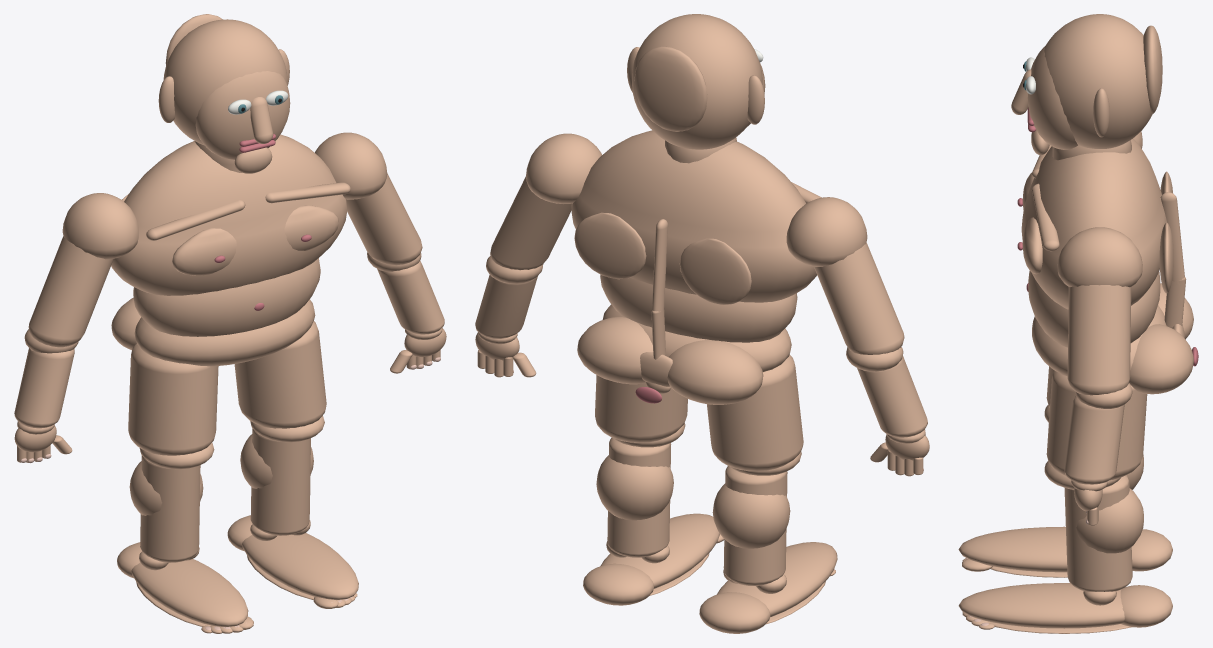
Rendered from body-baby-weiblich-v2.glb.
The picture shows the model from 3 angles, left to right: view 1: azimuth 30°, elevation 25°; view 2: azimuth 150°, elevation 25°; view 3: azimuth 270°, elevation 25°; orthographic projection. The views are drawn at different scales.
Visible parts, largest first — view 1: zone__surface-chest, zone__surface-thigh-left, zone__surface-abdomen, zone__surface-scalp, zone__surface-thigh-right, zone__surface-upper-arm-left, zone__surface-pelvis, zone__surface-foot-right, zone__surface-foot-left, zone__surface-lower-leg-left, zone__surface-lower-leg-right, zone__surface-face (+20 smaller); view 2: zone__surface-chest, zone__surface-scalp, zone__surface-thigh-left, zone__surface-abdomen, zone__surface-upper-arm-left, zone__surface-buttock-left, zone__surface-occiput, zone__surface-thigh-right, zone__surface-upper-arm-right, zone__surface-shoulder-left, zone__surface-shoulder-right, zone__surface-calf-right (+21 smaller); view 3: zone__surface-chest, zone__surface-scalp, zone__surface-upper-arm-right, zone__surface-foot-right, zone__surface-shoulder-right, zone__surface-lower-leg-right, zone__surface-forearm-right, zone__surface-thigh-right, zone__surface-foot-left, zone__surface-buttock-right, zone__surface-abdomen, zone__surface-calf-right (+20 smaller).
Boxes of the visible parts, bbox=[...] form: zone__surface-chest: bbox=[111, 134, 347, 295]; zone__surface-thigh-left: bbox=[128, 344, 218, 455]; zone__surface-abdomen: bbox=[133, 258, 320, 336]; zone__surface-scalp: bbox=[163, 19, 287, 144]; zone__surface-thigh-right: bbox=[234, 321, 326, 428]; zone__surface-upper-arm-left: bbox=[28, 236, 113, 347]; zone__surface-pelvis: bbox=[134, 299, 315, 366]; zone__surface-foot-right: bbox=[242, 533, 358, 600]; zone__surface-foot-left: bbox=[131, 559, 248, 627]; zone__surface-lower-leg-left: bbox=[140, 455, 200, 562]; zone__surface-lower-leg-right: bbox=[250, 428, 310, 535]; zone__surface-face: bbox=[195, 71, 290, 159]; zone__surface-chest: bbox=[571, 130, 816, 302]; zone__surface-scalp: bbox=[632, 14, 762, 149]; zone__surface-thigh-left: bbox=[707, 354, 803, 471]; zone__surface-abdomen: bbox=[600, 274, 797, 342]; zone__surface-upper-arm-left: bbox=[814, 242, 904, 354]; zone__surface-buttock-left: bbox=[667, 340, 763, 404]; zone__surface-occiput: bbox=[634, 46, 707, 131]; zone__surface-thigh-right: bbox=[595, 375, 687, 442]; zone__surface-upper-arm-right: bbox=[490, 176, 571, 270]; zone__surface-shoulder-left: bbox=[786, 197, 867, 266]; zone__surface-shoulder-right: bbox=[526, 133, 601, 203]; zone__surface-calf-right: bbox=[596, 455, 673, 520]; zone__surface-chest: bbox=[1021, 138, 1166, 309]; zone__surface-scalp: bbox=[1044, 14, 1152, 148]; zone__surface-upper-arm-right: bbox=[1067, 285, 1131, 395]; zone__surface-foot-right: bbox=[958, 583, 1124, 628]; zone__surface-shoulder-right: bbox=[1057, 227, 1142, 287]; zone__surface-lower-leg-right: bbox=[1064, 475, 1132, 591]; zone__surface-forearm-right: bbox=[1064, 395, 1124, 484]; zone__surface-thigh-right: bbox=[1046, 370, 1147, 480]; zone__surface-foot-left: bbox=[958, 526, 1067, 572]; zone__surface-buttock-right: bbox=[1129, 324, 1193, 394]; zone__surface-abdomen: bbox=[1028, 270, 1160, 347]; zone__surface-calf-right: bbox=[1076, 488, 1143, 553].
Bounding box in the file's own units: 0.5549 × 0.6796 × 0.258.
